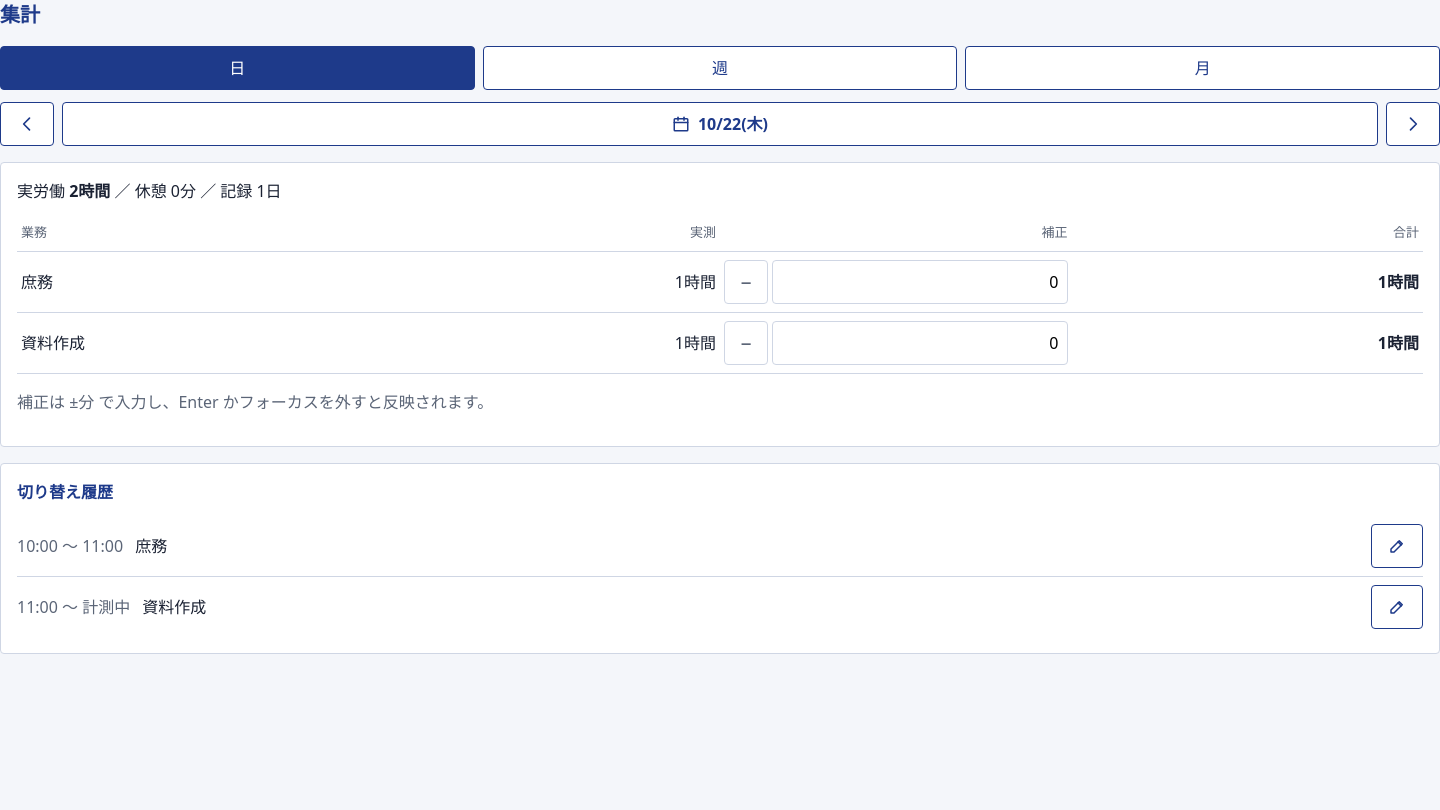
Scenario: 切り替え履歴の編集（集計 日） › 日付を移動すると編集状態が閉じる
This screenshot has width=1440, height=810.
Click the 2nd button with class "history__edit" at (1397, 606), box x1=1371 y1=584 x2=1423 y2=628
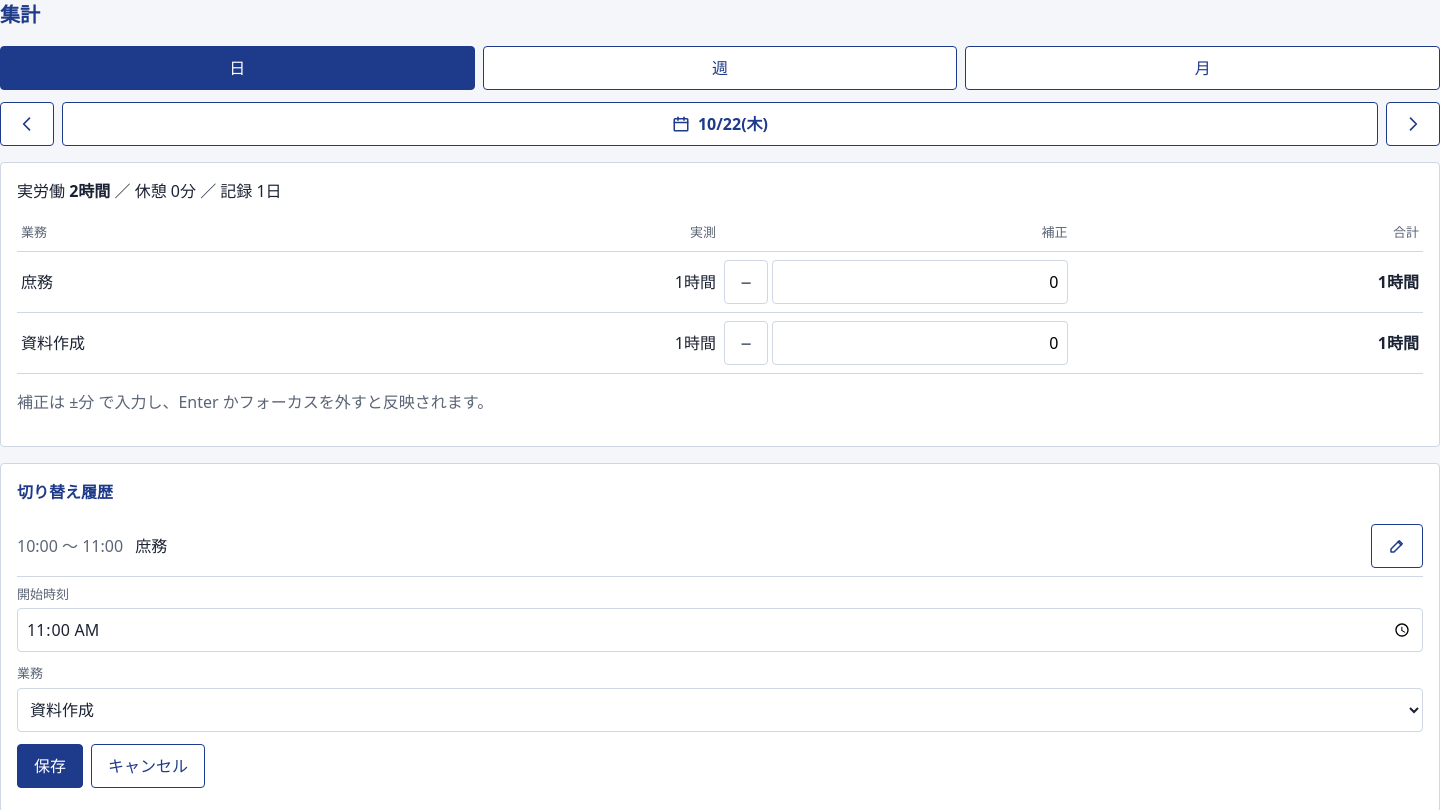
Click the button named "前の期間" at (27, 124), box x1=0 y1=102 x2=54 y2=146
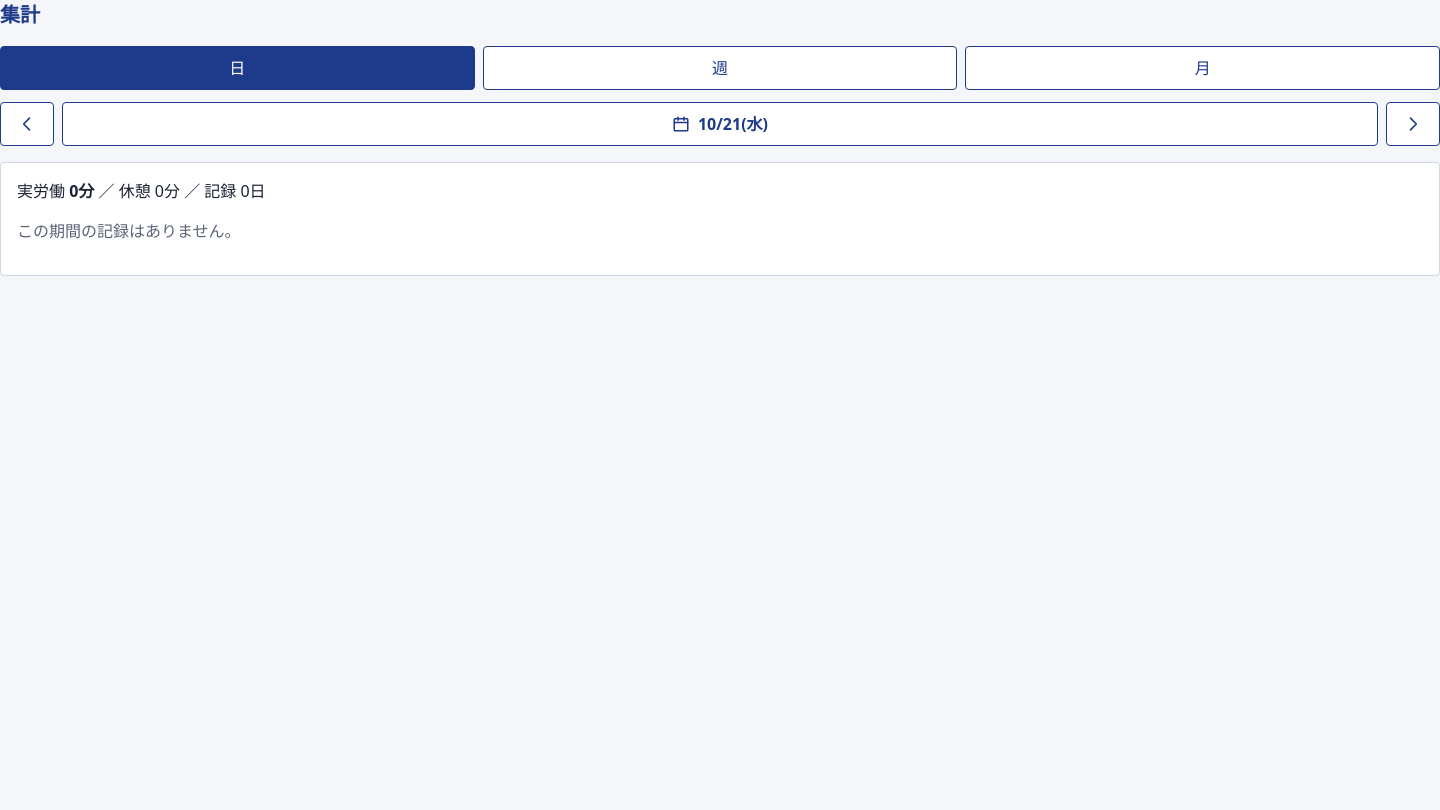
expect the form with class "history-edit" is gone: met
